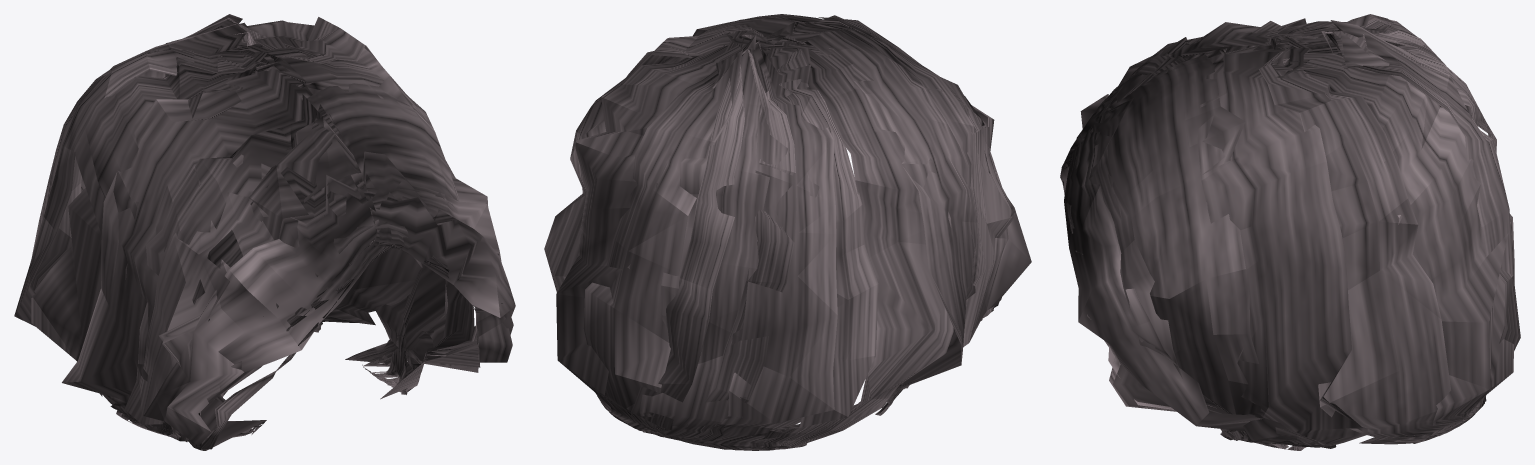
The model's file is hair_ponytail01.glb.
3 views of the same model, side by side, from view 1: azimuth 30°, elevation 25°; view 2: azimuth 150°, elevation 25°; view 3: azimuth 270°, elevation 25° (orthographic). The views are drawn at different scales.
Parts seen in each view (by area): view 1: hair_ponytail01; view 2: hair_ponytail01; view 3: hair_ponytail01.
Boxes of the visible parts, left/top/right/bottom form: hair_ponytail01: left=14, top=14, right=515, bottom=450; hair_ponytail01: left=544, top=14, right=1031, bottom=450; hair_ponytail01: left=1060, top=14, right=1520, bottom=450.
Size of the model in its own units: 0.1853 by 0.1674 by 0.1911.
Materials: 1 (1 with a texture image).
